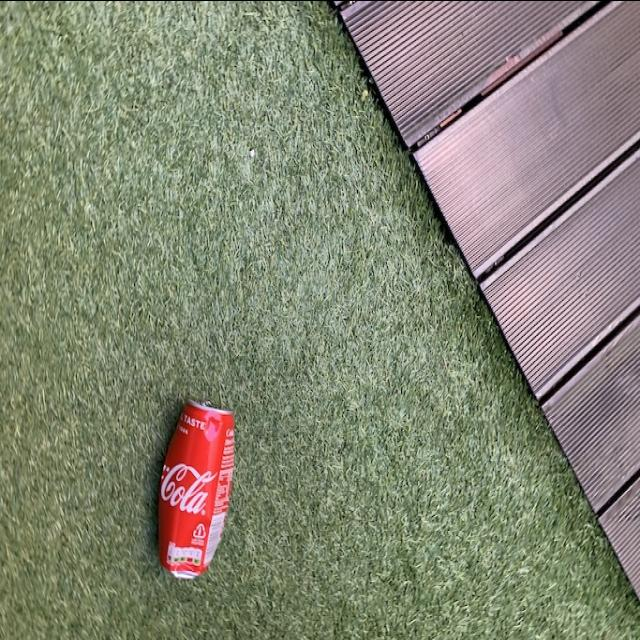litter: (156, 392, 236, 582)
